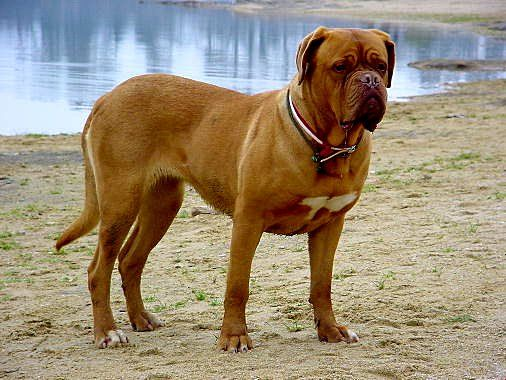dogue_de_bordeaux: (54, 26, 396, 353)
